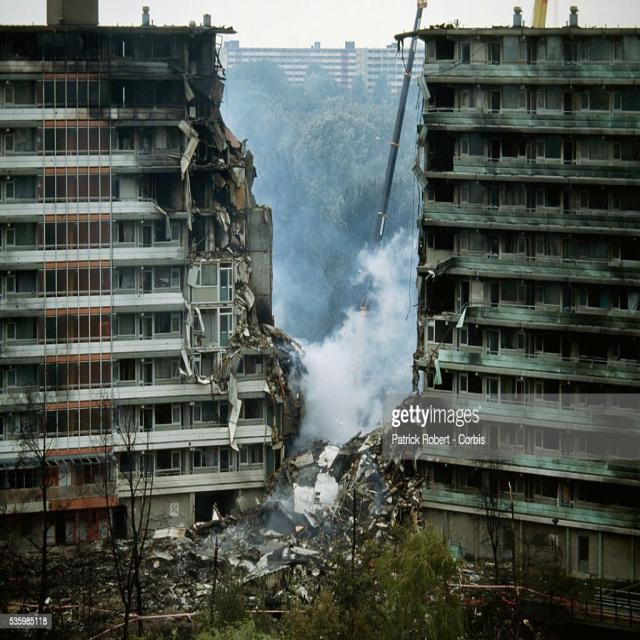Severely_Damaged: (183, 8, 483, 587)
